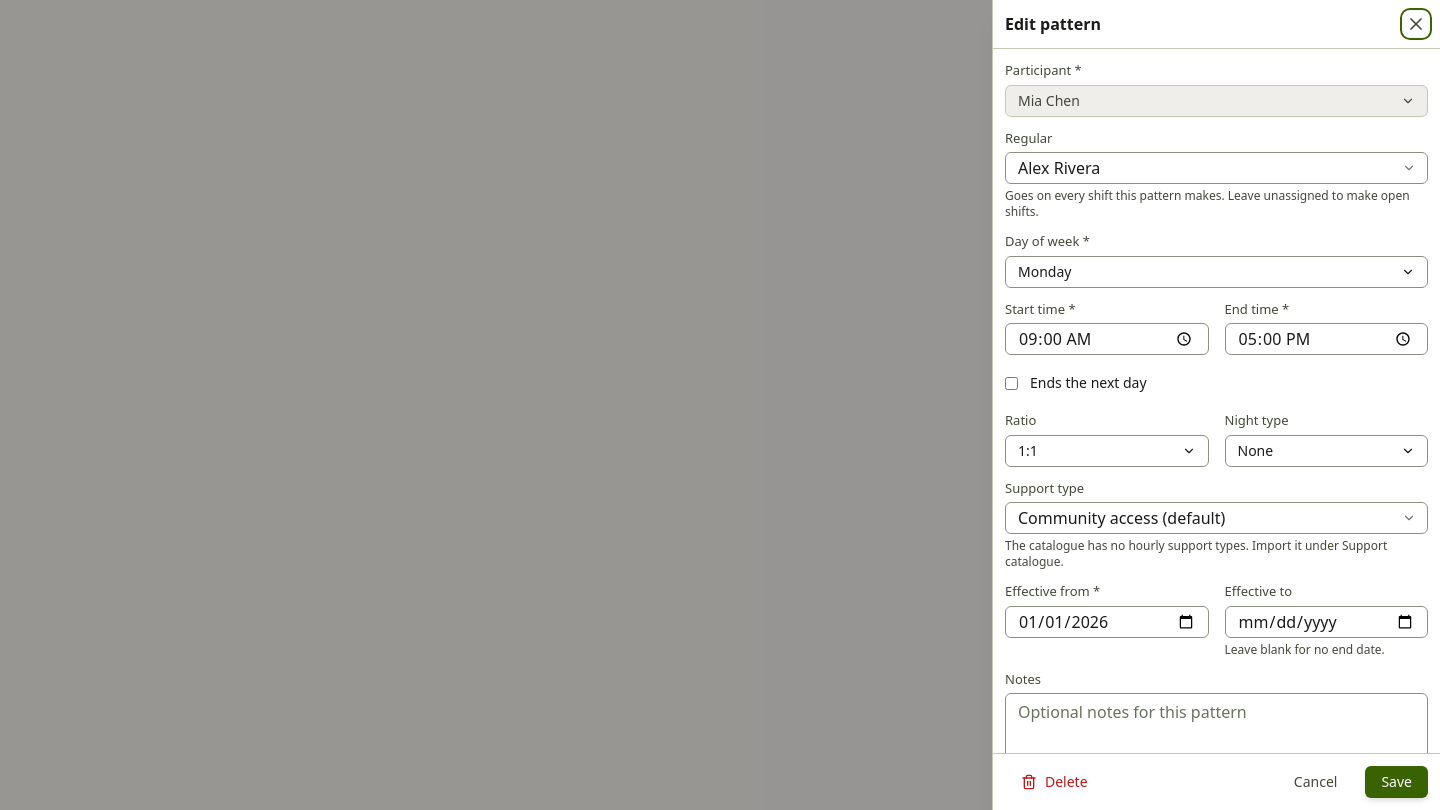
Test case: PatternSlideOver Default staff field — SearchableSelect (DS-01/UX-01 migration) › Escape closes the popup and discards an unsubmitted query, keeping the prior selection
Step 1. Type "nomatch" into the dropdown labelled "Regular" → (1216, 168), box [1005,152,1428,184]
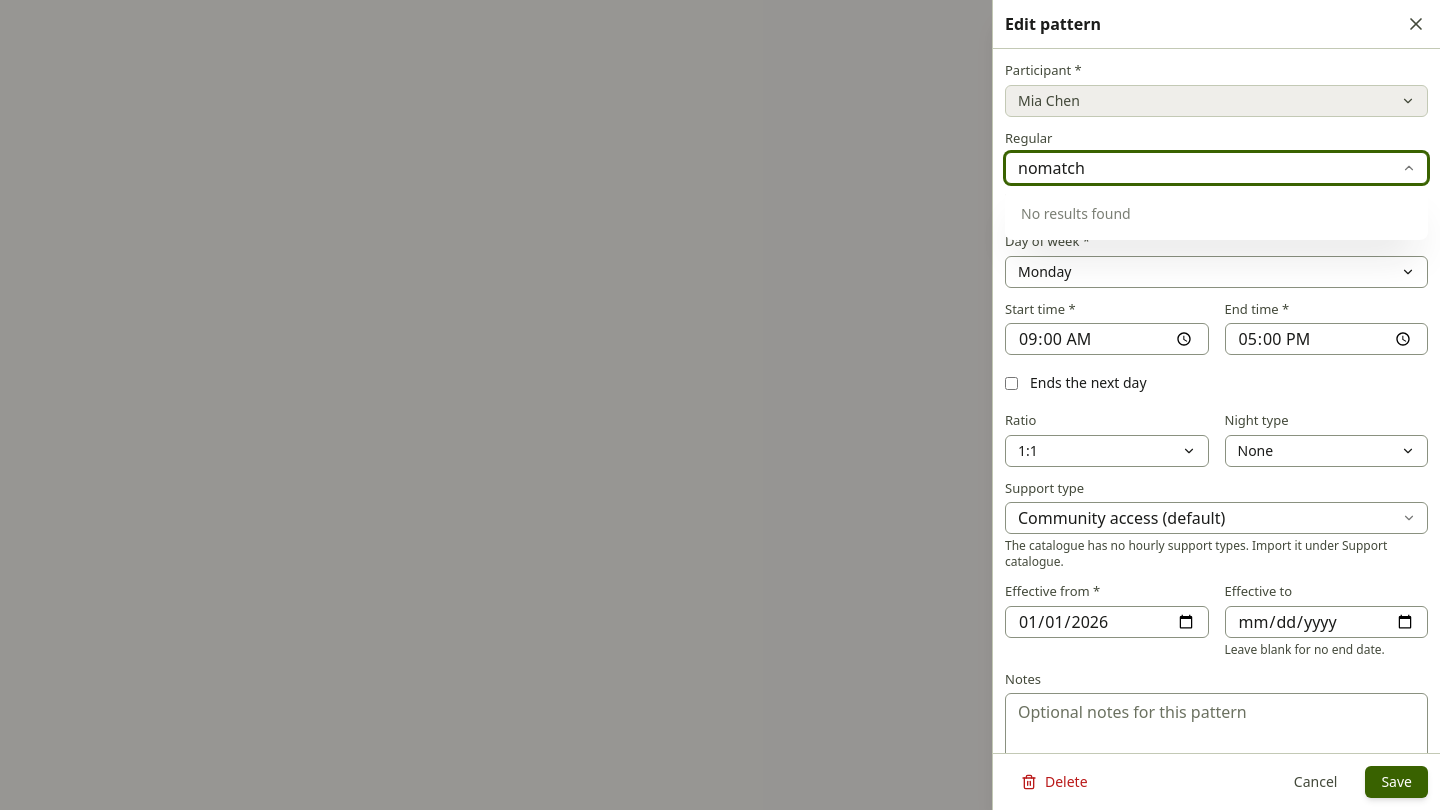
Check: the text "No results found" is shown, box [1021,204,1131,223]
Step 2. Press Escape
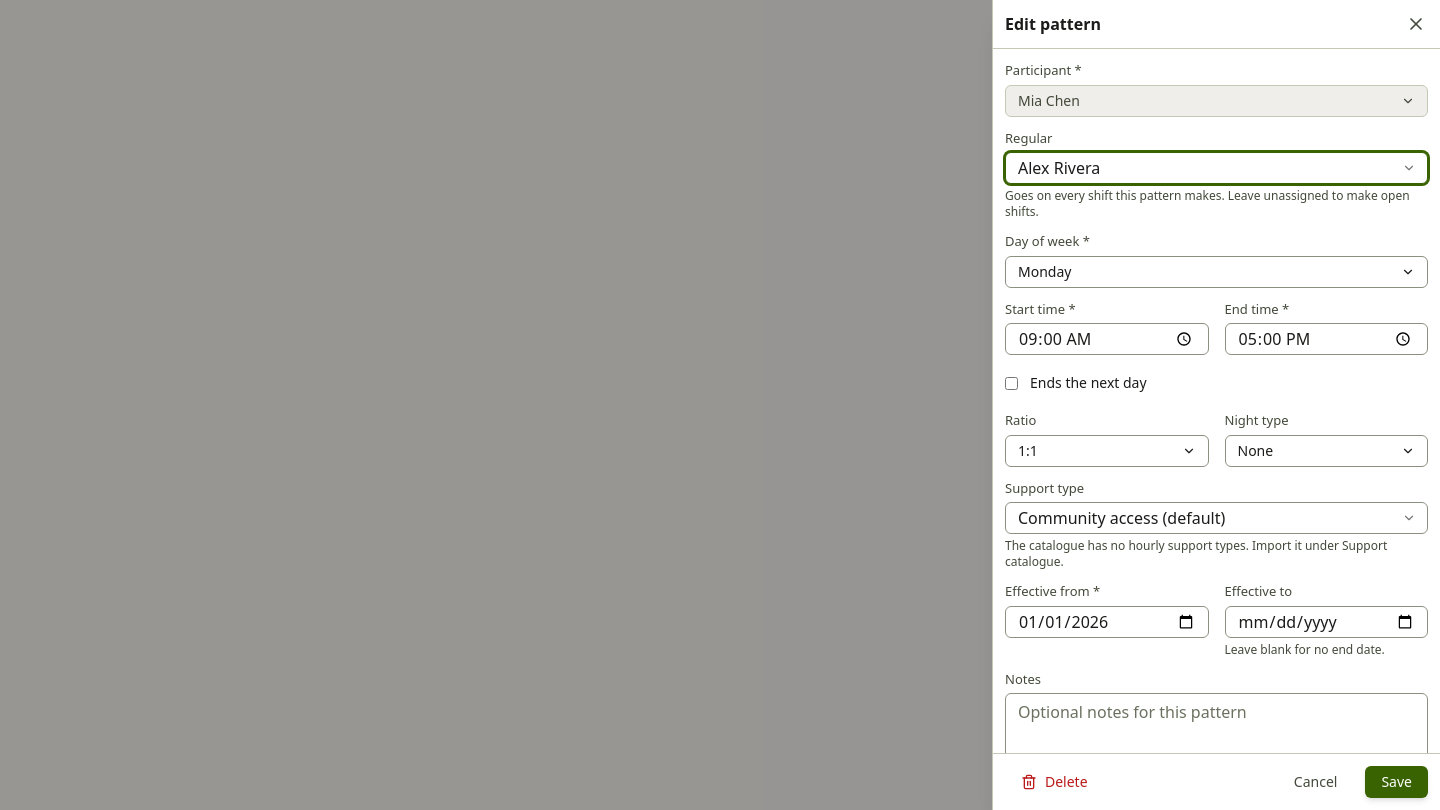
Check: the dropdown labelled "Regular" is collapsed, box [1005,152,1428,184]
Check: the dropdown labelled "Regular" holds "Alex Rivera", box [1005,152,1428,184]
